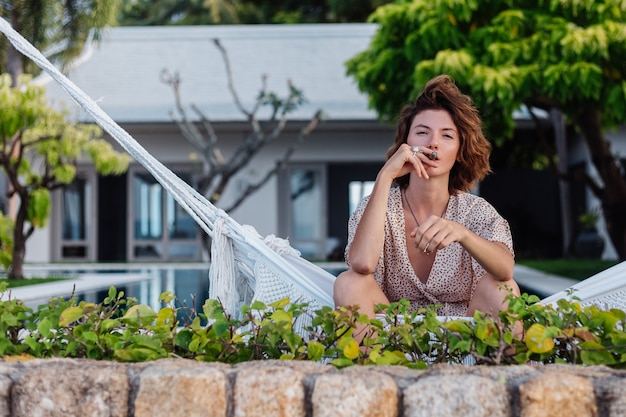cigarette: (428, 150, 438, 160)
